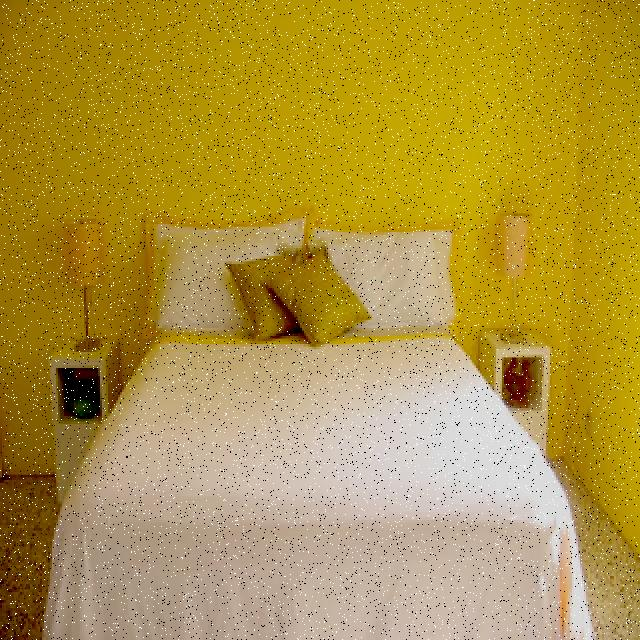bed: (55, 214, 578, 640)
